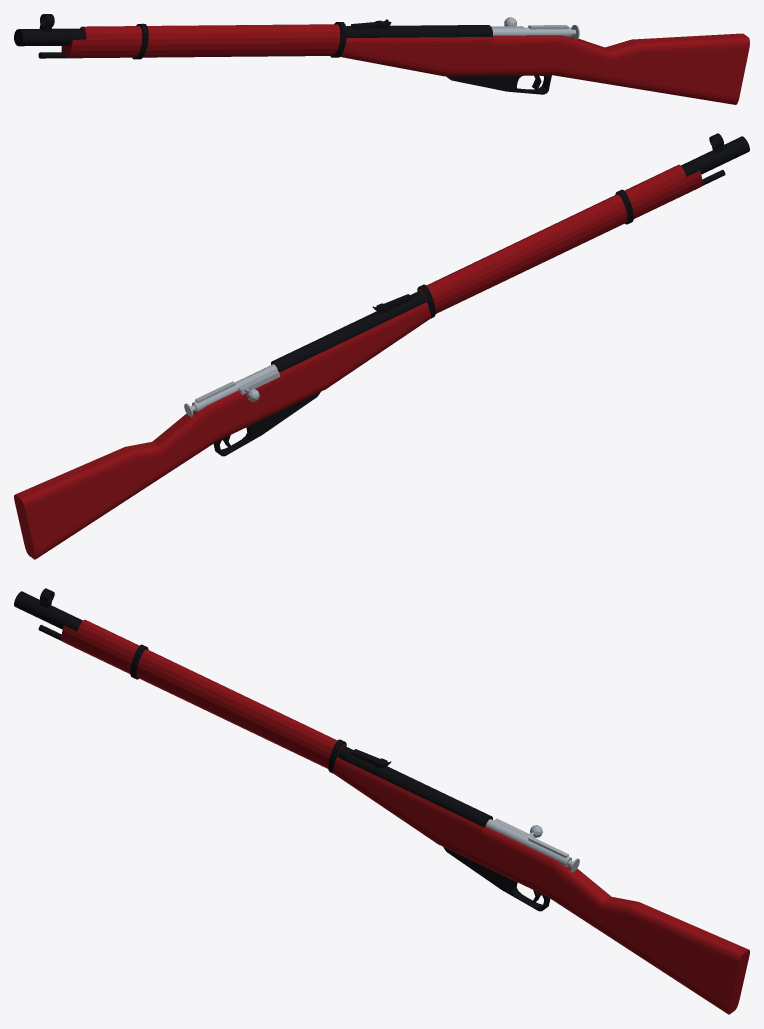
Rendered from mosin-nagant0004.obj.
3 renders of one model, top to bottom at view 1: azimuth 30°, elevation 25°; view 2: azimuth 210°, elevation 25°; view 3: azimuth 330°, elevation 25°, orthographic.
Visible parts, largest first — view 1: stock, barrel, triggerGuard, bolt, cleaningRod, stockBand, stockBandRear, grooveBar, upperBoltGuide, frontSightGuard; view 2: stock, barrel, triggerGuard; view 3: stock, barrel, triggerGuard, bolt.
Boxes of the visible parts, left/top/right/bottom form: stock: left=61, top=24, right=749, bottom=104; barrel: left=14, top=25, right=492, bottom=46; triggerGuard: left=446, top=75, right=551, bottom=94; bolt: left=492, top=27, right=571, bottom=37; cleaningRod: left=38, top=52, right=332, bottom=58; stockBand: left=132, top=23, right=148, bottom=59; stockBandRear: left=330, top=22, right=346, bottom=57; grooveBar: left=351, top=19, right=391, bottom=29; upperBoltGuide: left=528, top=25, right=568, bottom=29; frontSightGuard: left=40, top=14, right=54, bottom=27; stock: left=14, top=164, right=702, bottom=559; barrel: left=271, top=136, right=749, bottom=372; triggerGuard: left=213, top=392, right=320, bottom=456; stock: left=61, top=619, right=749, bottom=1014; barrel: left=14, top=591, right=492, bottom=827; triggerGuard: left=443, top=847, right=550, bottom=911; bolt: left=486, top=819, right=571, bottom=867.
Bounding box in the file's own units: 15.94 × 5.35 × 0.818.
